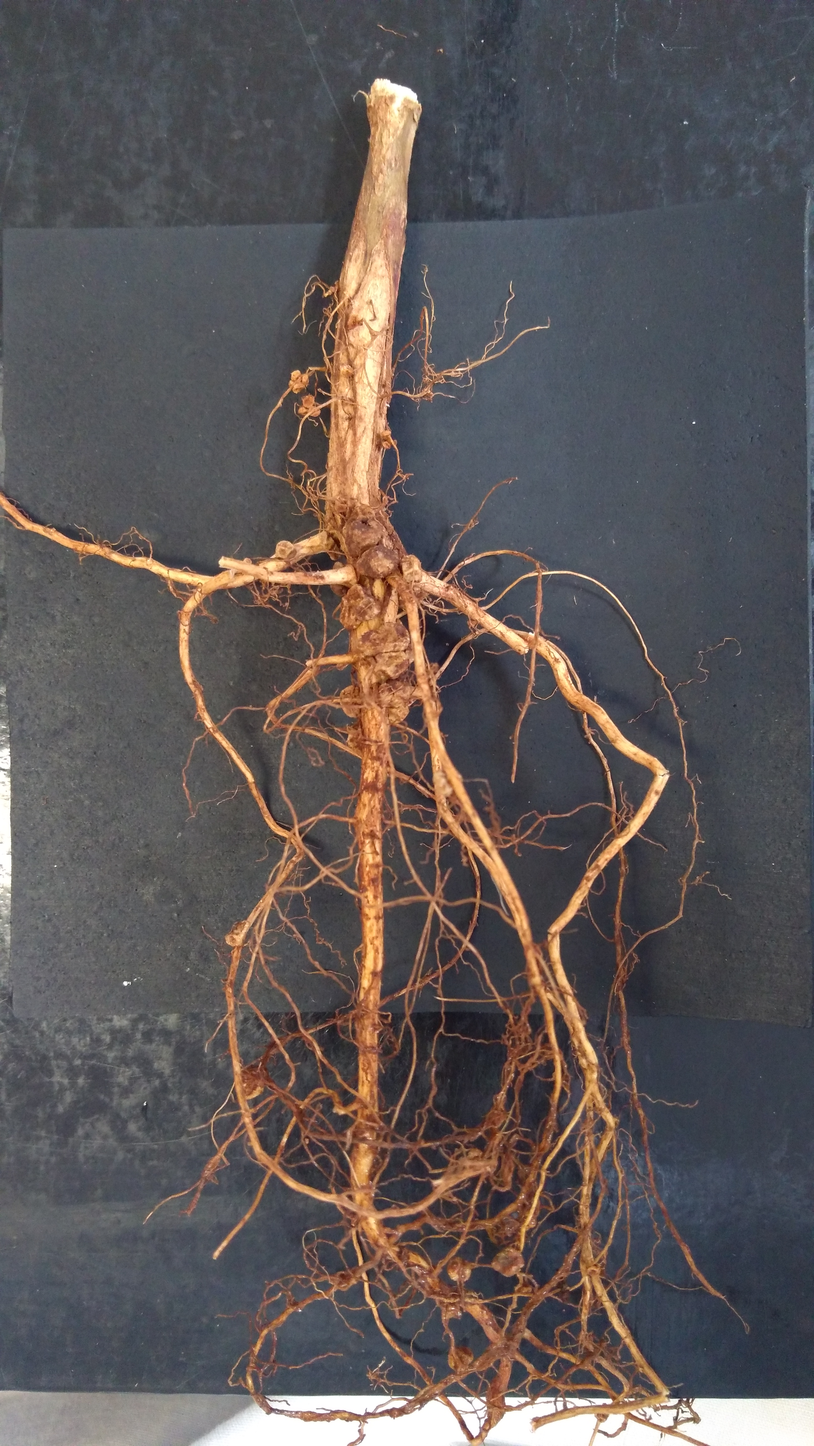nodule: (336, 581, 383, 630), (339, 514, 385, 561), (369, 645, 418, 685), (358, 621, 413, 655), (354, 543, 402, 578), (236, 1062, 273, 1103), (488, 1245, 529, 1280), (221, 915, 259, 950), (365, 516, 397, 554), (337, 684, 369, 722), (445, 1340, 475, 1374), (444, 1252, 473, 1285), (329, 557, 351, 600), (385, 693, 410, 728), (400, 553, 424, 586), (273, 535, 300, 560), (463, 1143, 487, 1168), (347, 717, 364, 750), (301, 393, 316, 409), (306, 405, 322, 417), (293, 381, 306, 394), (289, 368, 301, 382), (239, 553, 253, 565), (381, 440, 393, 451), (302, 375, 312, 385), (297, 406, 307, 416), (287, 379, 294, 388)
